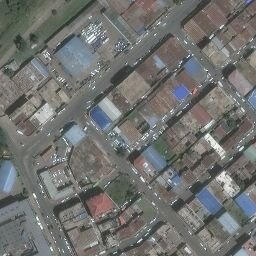tree: (14, 36, 27, 52), (116, 147, 125, 156), (30, 35, 39, 43), (227, 118, 235, 127)
